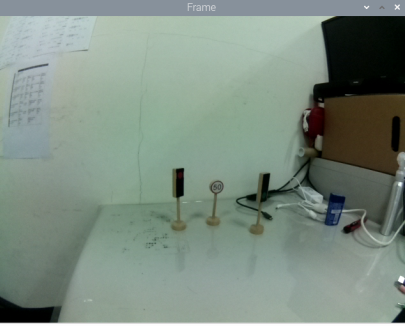Green: (255, 170, 273, 205)
Red: (169, 165, 188, 201)
Speed50: (210, 179, 227, 195)
